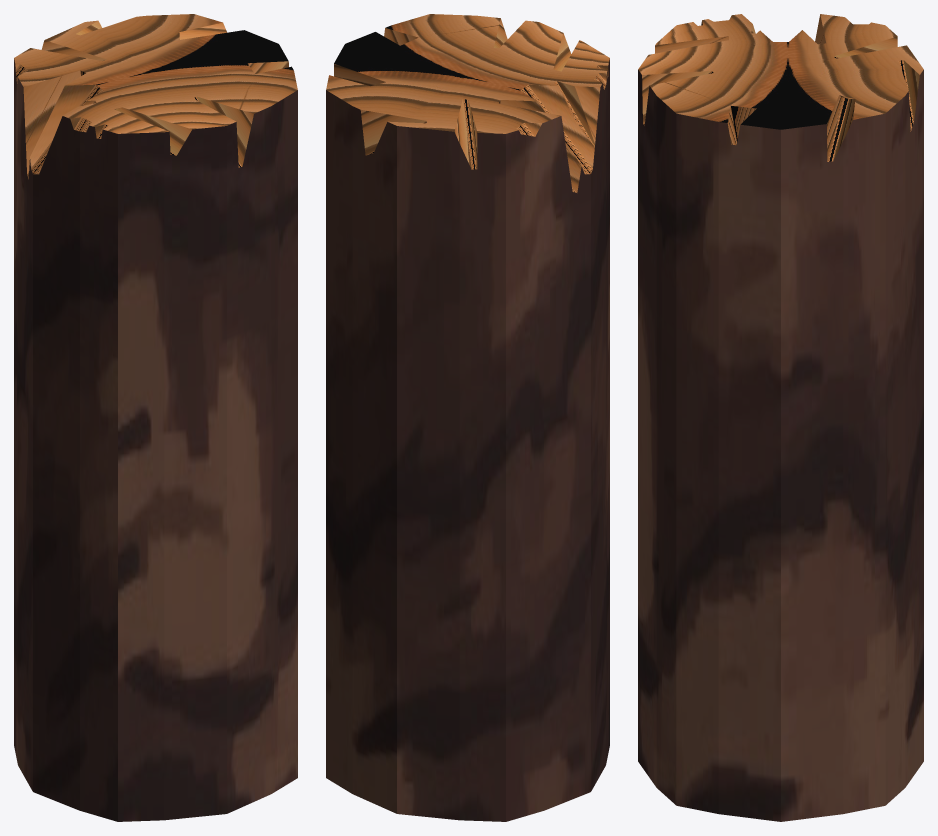
The model's file is Training Log.fbx.
3 renders of one model, left to right at view 1: azimuth 30°, elevation 25°; view 2: azimuth 150°, elevation 25°; view 3: azimuth 270°, elevation 25°, orthographic.
Visible parts, largest first — view 1: Cube; view 2: Cube; view 3: Cube.
Part boxes in pixels (box(x1,y1,x2,y2)): Cube: box(14, 14, 297, 821); Cube: box(326, 14, 609, 821); Cube: box(638, 14, 923, 821).
Size of the model in its own units: 200 by 535 by 200.
2 materials, 2 textured.
